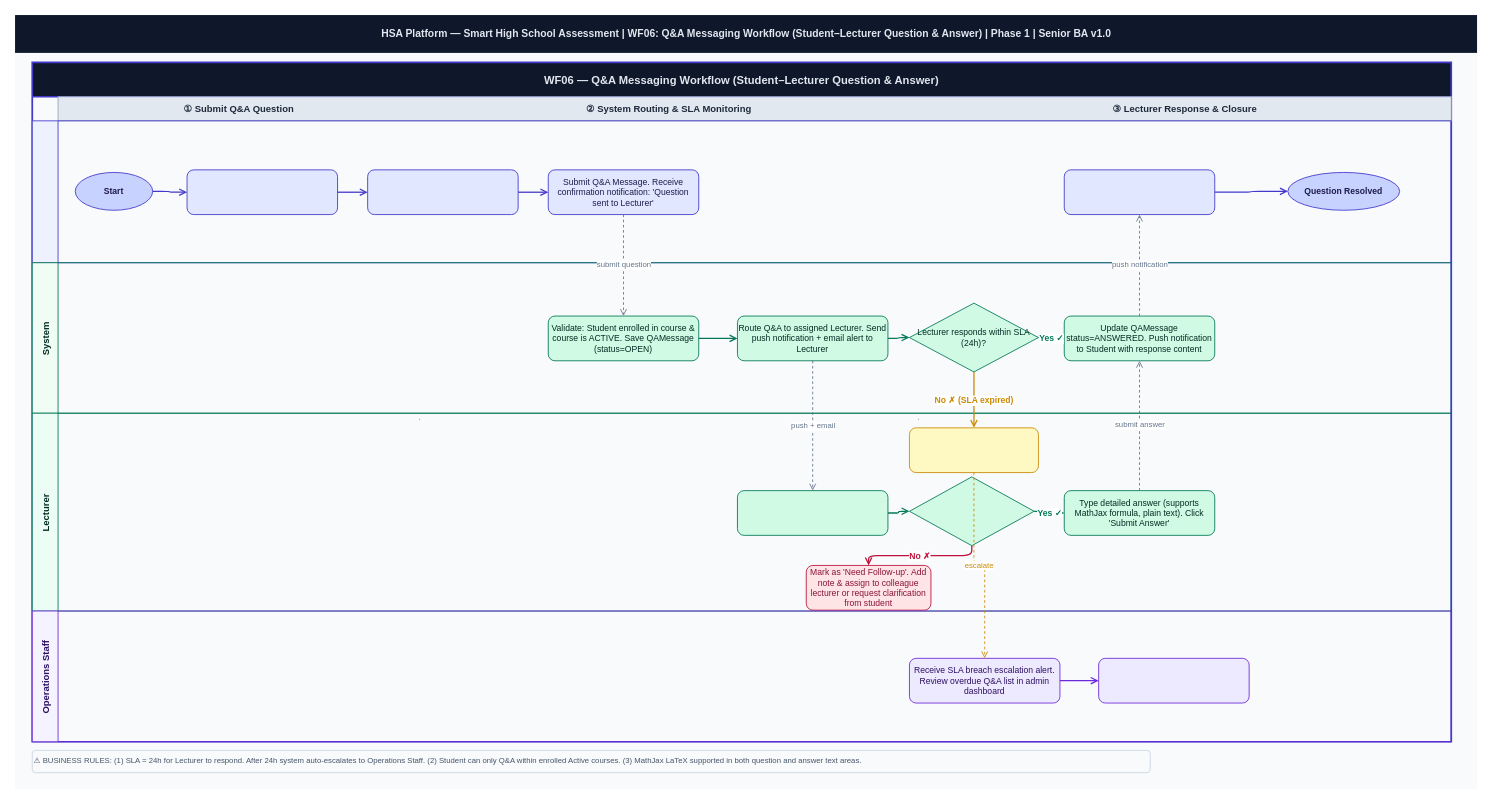
This 1491x803 diagram has some shape labels left out. The shapes that lost their labels are listed below. From the top down, each one's box as (x1, y1, x2, y2) in pixels, then its label:
(186, 169, 338, 215): Navigate to Course → Q&A Tab. Select subject topic for question
(367, 169, 518, 215): Type question text. Attach image/screenshot (optional). Select topic tag
(31, 120, 1451, 263): Student
(1063, 169, 1215, 215): Receive push notification: Lecturer has responded. View full thread response
(909, 427, 1038, 473): SLA Breach Alert: Escalate to Operations Staff (auto-email after 24h)
(737, 490, 888, 535): Receive push/email notification for new Q&A. View question in Course Dashboard
(909, 476, 1034, 546): Able to answer question?
(1098, 657, 1249, 703): Manually reassign Q&A to available Lecturer or escalate to Center Director
